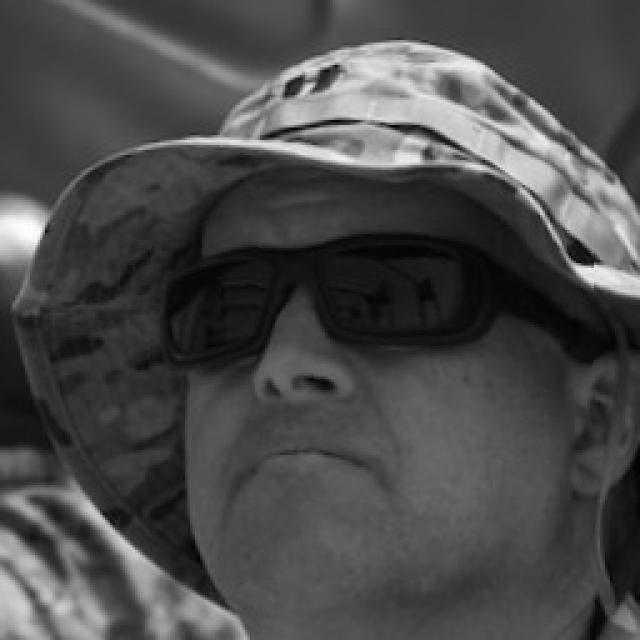glasses: (149, 226, 594, 388)
